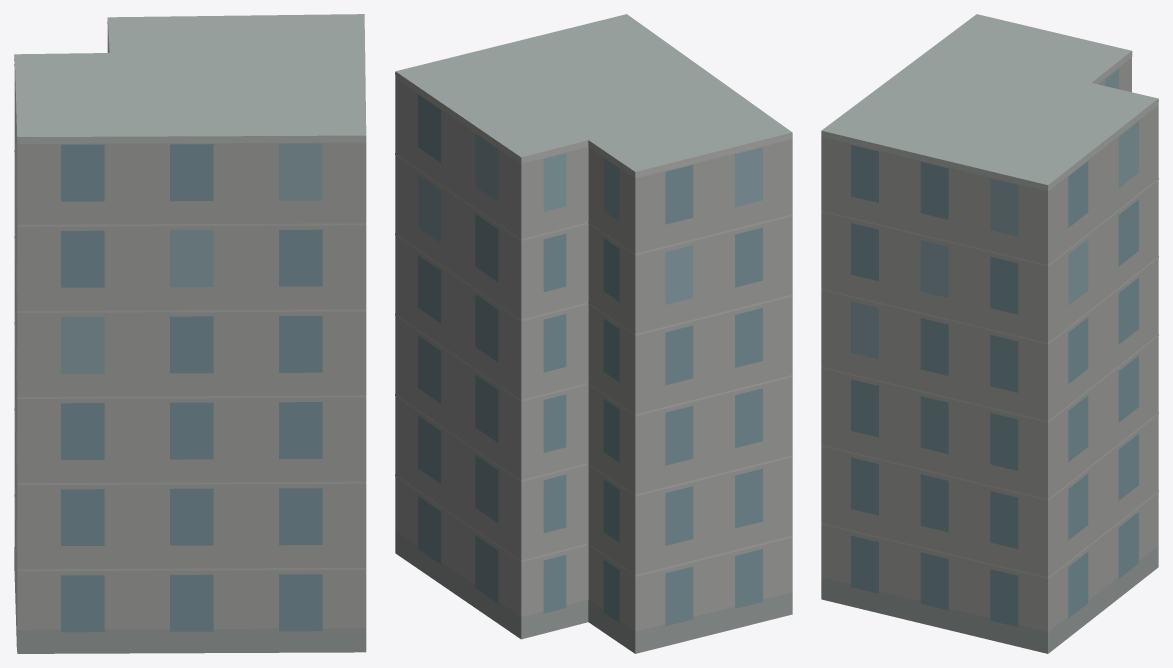
The model's file is survey-upis-32797983.glb.
3 renders of one model, left to right at view 1: azimuth 30°, elevation 25°; view 2: azimuth 150°, elevation 25°; view 3: azimuth 270°, elevation 25°, orthographic. The views are drawn at different scales.
Visible parts, largest first — view 1: survey-upis-32797983.tmp; view 2: survey-upis-32797983.tmp; view 3: survey-upis-32797983.tmp.
Boxes of the visible parts, left/top/right/bottom form: survey-upis-32797983.tmp: left=14, top=14, right=366, bottom=653; survey-upis-32797983.tmp: left=395, top=14, right=792, bottom=653; survey-upis-32797983.tmp: left=821, top=14, right=1158, bottom=653.
Bounding box in the file's own units: 14.12 × 18 × 11.76.
